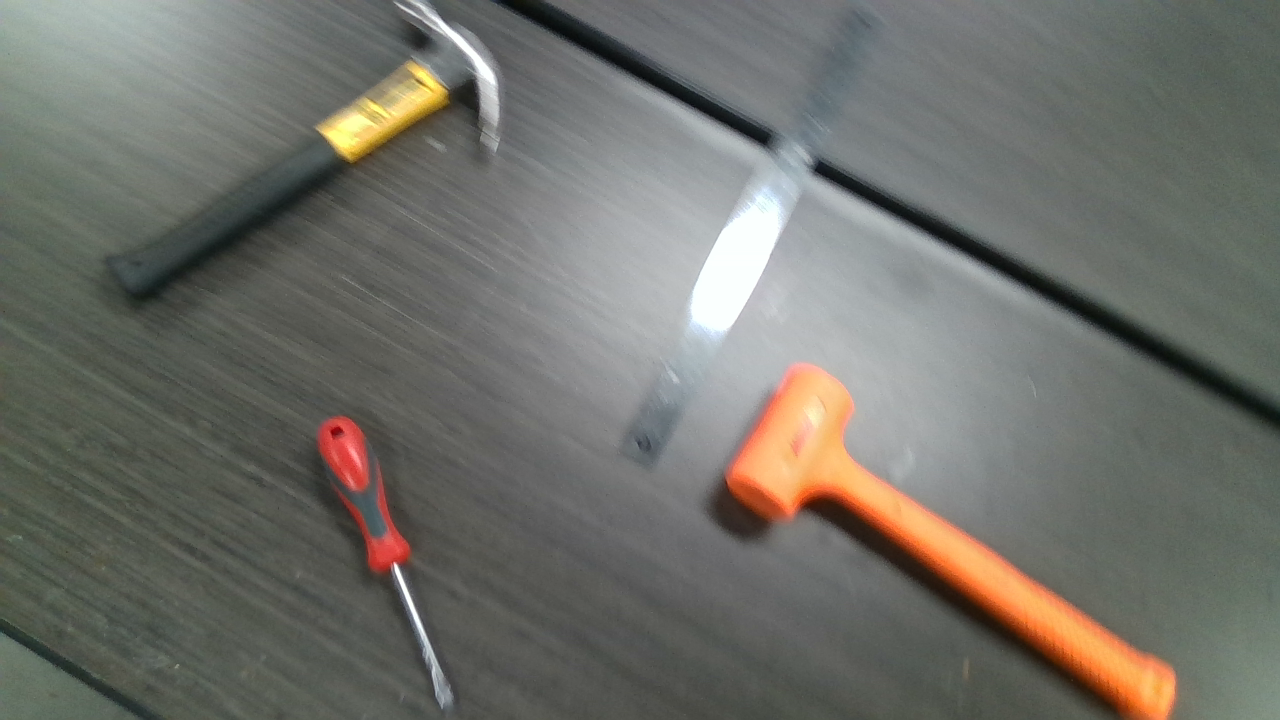Orange Hammer: (729, 363, 1167, 715)
